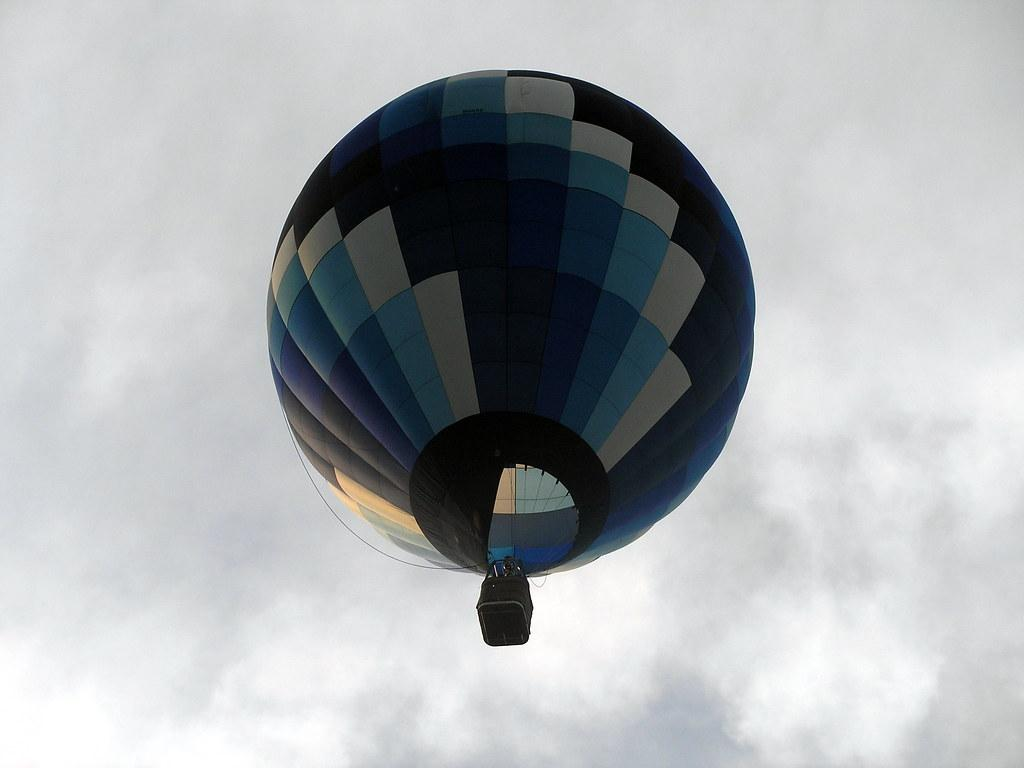balloon: (265, 67, 758, 646)
